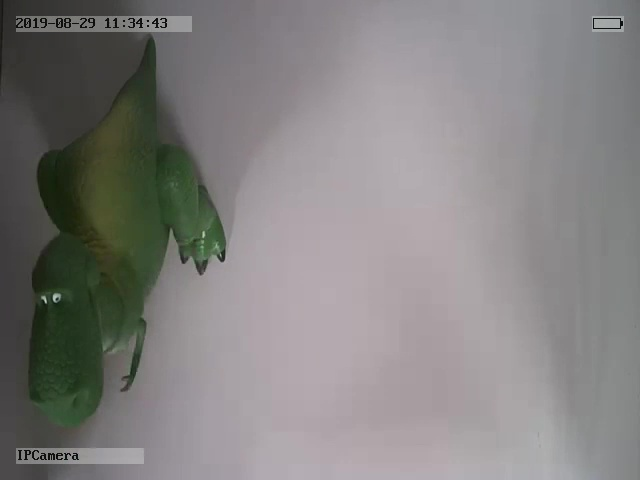rex: (27, 36, 227, 425)
